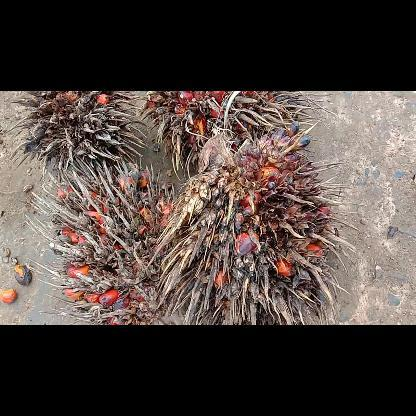Terlalu masak: (145, 126, 366, 324), (20, 156, 192, 324), (136, 90, 338, 180), (0, 90, 158, 186)
